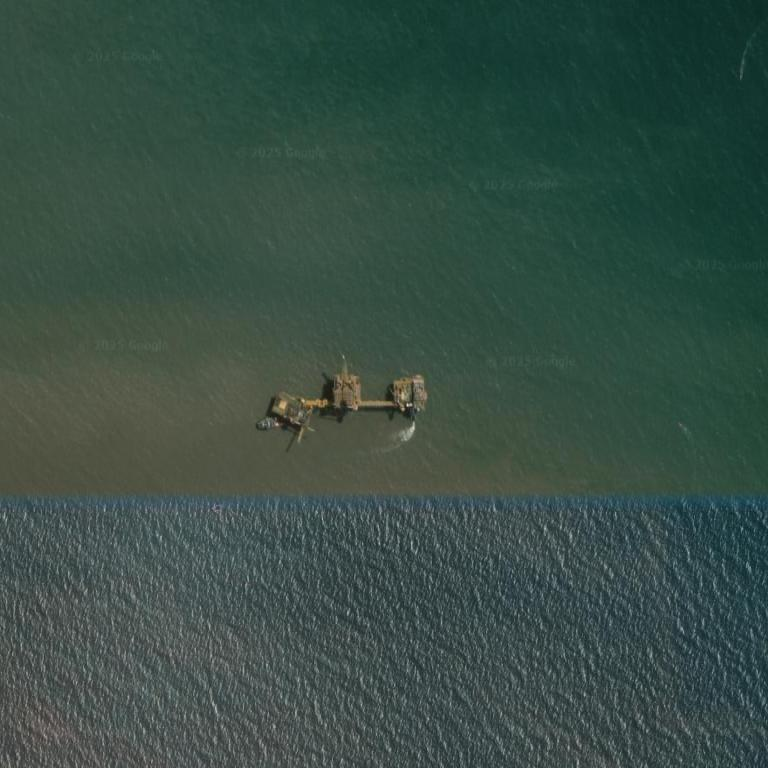platform: (264, 362, 431, 444)
